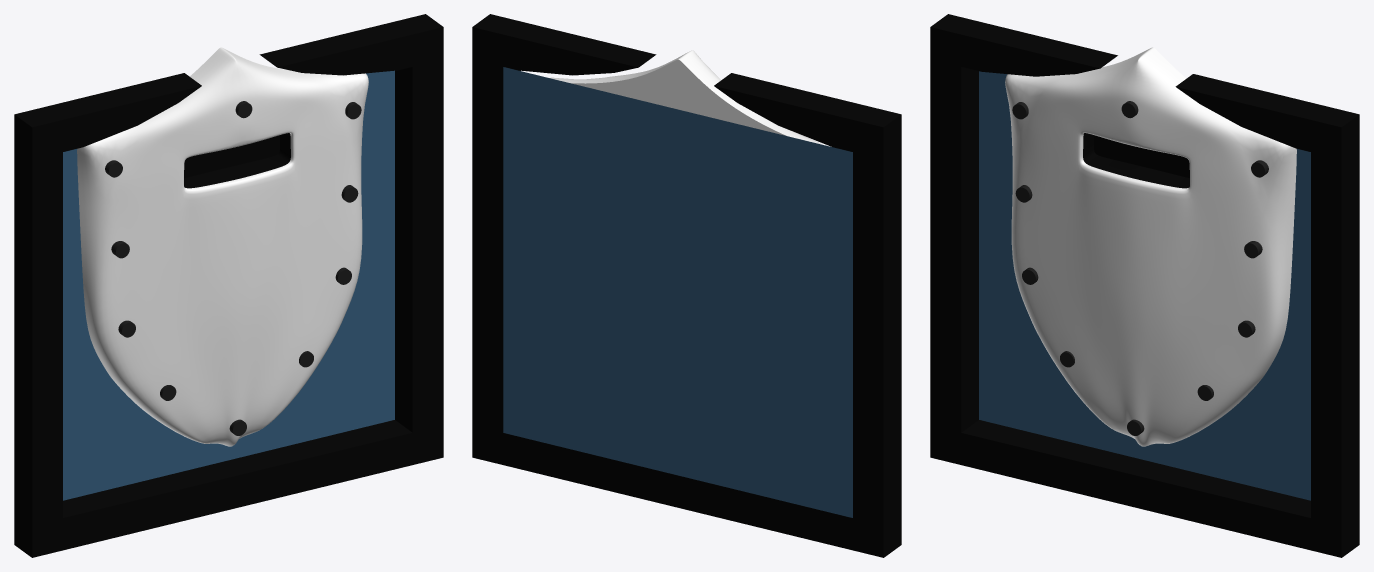
Rendered from shieldIcon.glb.
The picture shows the model from 3 angles, left to right: view 1: azimuth 30°, elevation 25°; view 2: azimuth 150°, elevation 25°; view 3: azimuth 330°, elevation 25°; orthographic projection.
Parts seen in each view (by area): view 1: Object_4, Object_5, Object_2, Object_3; view 2: Object_2, Object_5, Object_4; view 3: Object_4, Object_5, Object_2, Object_3.
Boxes of the visible parts, <box> form: Object_4: <box>77,47,368,446</box>; Object_5: <box>14,14,443,557</box>; Object_2: <box>63,70,394,500</box>; Object_3: <box>105,101,361,435</box>; Object_2: <box>503,67,852,517</box>; Object_5: <box>472,14,901,557</box>; Object_4: <box>550,50,822,144</box>; Object_4: <box>1005,47,1296,446</box>; Object_5: <box>930,14,1359,557</box>; Object_2: <box>979,71,1310,500</box>; Object_3: <box>1012,101,1268,435</box>.
Size of the model in its own units: 0.4 by 0.416 by 0.0425.
